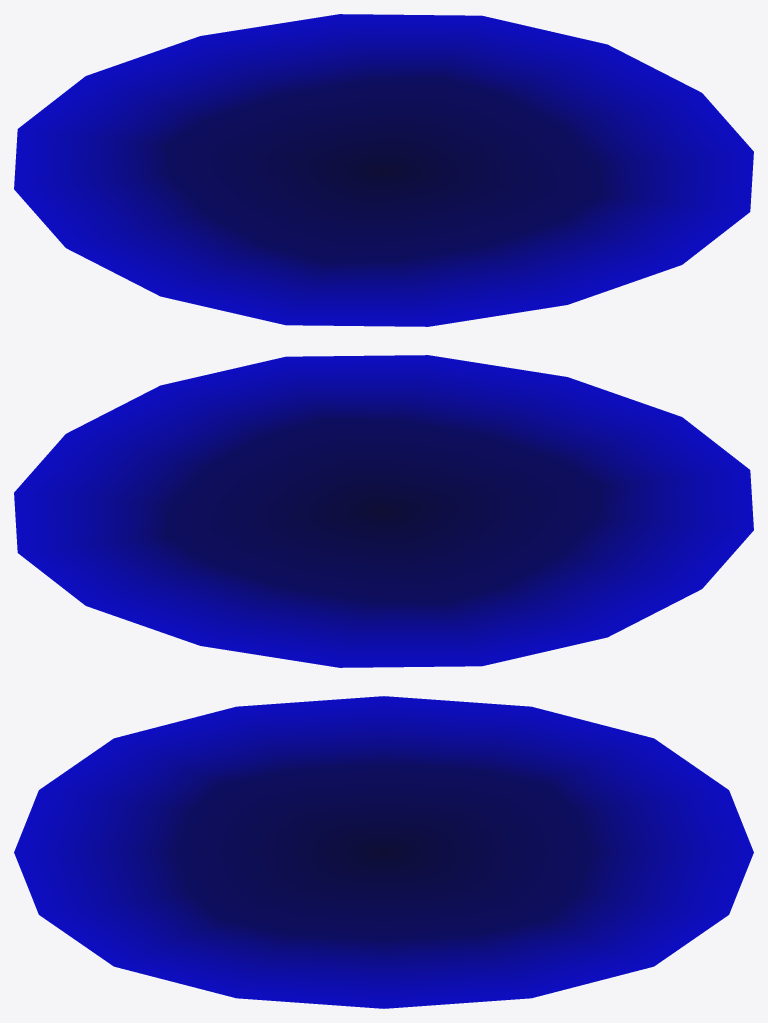
The model's file is Cave_FloorRockPile01.fbx.
3 views of the same model, one above another, from view 1: azimuth 30°, elevation 25°; view 2: azimuth 150°, elevation 25°; view 3: azimuth 270°, elevation 25° (orthographic).
Visible parts, largest first — view 1: Cave_FloorRockPile01; view 2: Cave_FloorRockPile01; view 3: Cave_FloorRockPile01.
Part boxes in pixels (left/top/right/bottom): Cave_FloorRockPile01: left=14, top=14, right=753, bottom=326; Cave_FloorRockPile01: left=14, top=355, right=753, bottom=667; Cave_FloorRockPile01: left=14, top=696, right=753, bottom=1008.
Bounding box in the file's own units: 2.99 × 5.64e-07 × 2.99.
